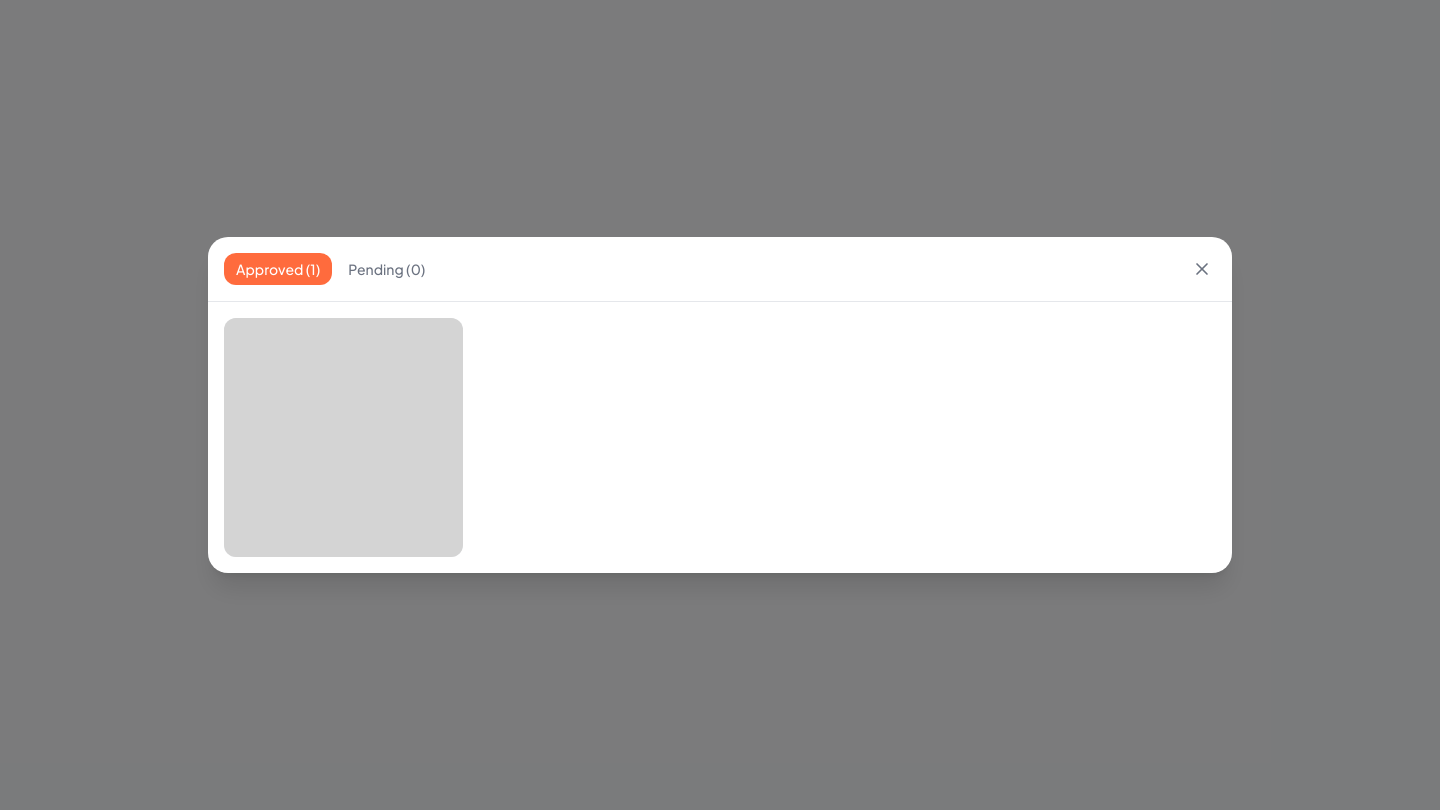
it: KollabViewer › still restores an item to Pending on a plain 500, distinct from the 409 case
Click the tab "Pending (0)" at (387, 269), box [336,253,437,285]
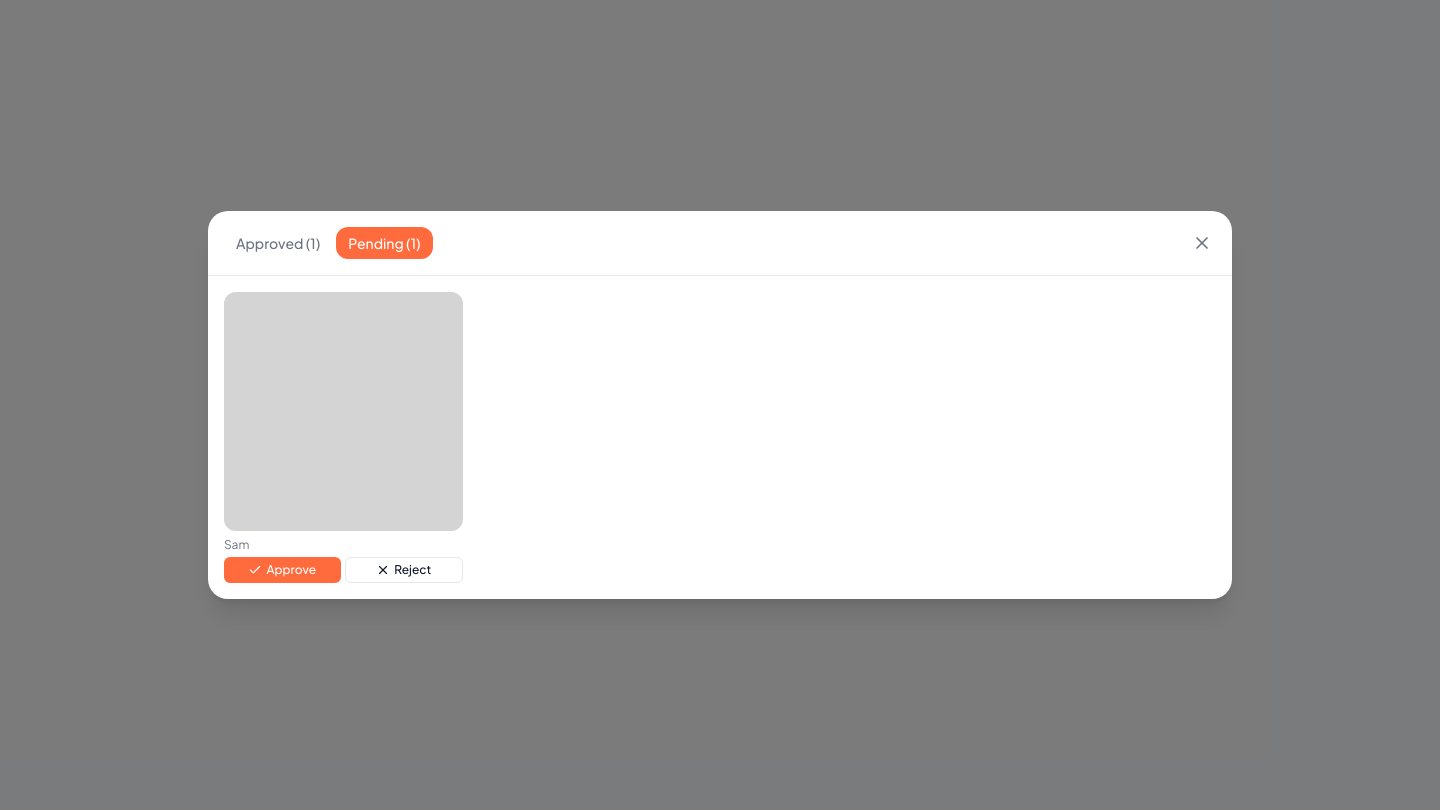
Expected: the button "Approve" is shown
Click the button "Approve" at (282, 570), box [224,557,340,583]
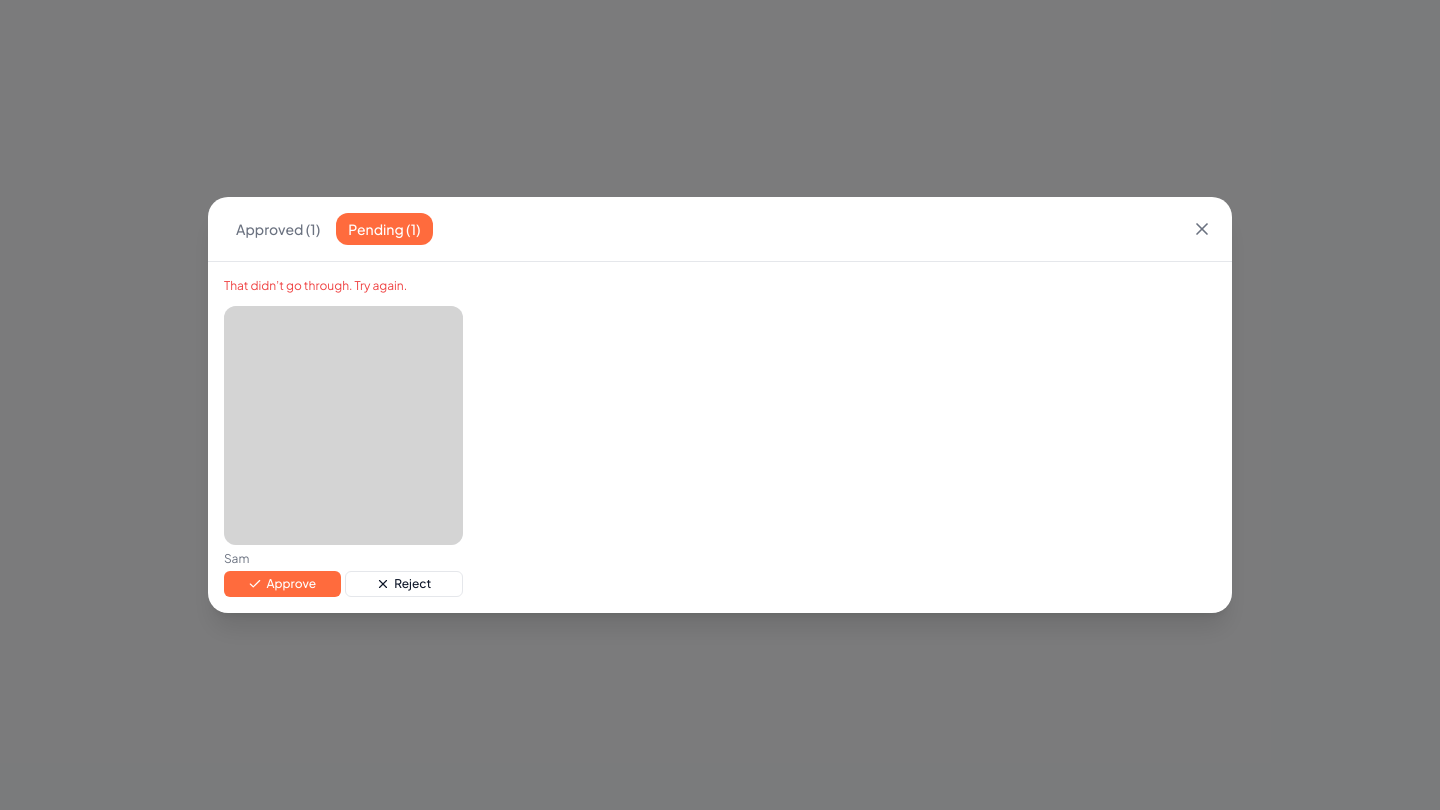
Expected: the button "Approve" is shown, [224,571,340,597]
Expected: the text "That didn’t go through. Try again." is shown, [224,278,407,293]
